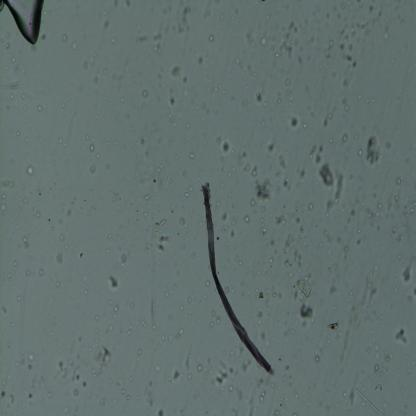Air bubble: (0, 0, 46, 47)
Background material: (326, 167, 346, 213), (342, 308, 358, 364), (173, 0, 192, 35), (92, 344, 110, 378), (364, 133, 382, 166), (152, 220, 170, 251), (339, 19, 356, 50), (244, 25, 258, 58), (132, 163, 155, 183), (82, 47, 101, 71), (214, 365, 235, 386), (254, 179, 273, 202), (282, 22, 300, 46), (143, 376, 153, 414), (319, 163, 334, 188), (366, 202, 382, 224), (296, 280, 314, 298), (277, 42, 294, 61), (25, 375, 36, 403), (390, 223, 404, 245), (393, 327, 410, 345), (309, 143, 324, 163), (400, 199, 416, 217), (56, 362, 68, 384), (320, 40, 333, 60), (104, 274, 120, 290), (153, 30, 163, 54), (164, 87, 176, 107), (332, 262, 344, 282), (240, 356, 254, 373), (168, 61, 182, 78), (109, 185, 122, 203), (148, 299, 158, 322), (236, 148, 250, 164), (156, 64, 166, 86), (283, 170, 292, 194), (288, 113, 300, 131), (4, 78, 23, 89), (298, 305, 314, 318), (357, 18, 374, 30), (71, 367, 83, 384), (135, 33, 152, 45), (246, 391, 254, 416), (372, 340, 382, 360), (368, 285, 382, 299), (26, 351, 35, 372), (259, 217, 268, 238), (112, 72, 123, 89), (274, 212, 288, 225), (294, 250, 304, 268), (347, 52, 357, 70), (323, 109, 332, 129), (277, 152, 287, 170), (386, 348, 396, 366), (402, 264, 412, 282), (296, 163, 306, 181), (204, 0, 213, 19), (382, 22, 391, 41), (235, 385, 244, 404), (322, 229, 334, 243), (92, 72, 104, 86), (195, 51, 204, 69), (348, 385, 356, 405), (118, 254, 131, 266), (2, 178, 16, 189), (184, 350, 191, 372), (407, 284, 416, 301), (139, 87, 151, 99), (122, 58, 131, 74), (258, 390, 267, 406), (366, 269, 374, 287), (162, 3, 173, 16), (325, 281, 336, 294), (54, 252, 64, 266), (222, 141, 232, 155), (284, 231, 292, 248), (140, 133, 148, 150), (342, 74, 352, 87), (220, 211, 230, 224), (325, 322, 338, 332), (236, 57, 245, 71), (241, 99, 252, 110), (346, 292, 356, 304), (143, 192, 153, 204), (174, 328, 184, 340), (202, 101, 210, 115), (340, 98, 348, 112), (8, 393, 16, 407), (250, 164, 258, 178), (256, 92, 264, 106), (230, 405, 240, 416), (152, 363, 162, 374), (255, 380, 265, 391), (172, 370, 182, 381), (354, 0, 363, 12), (164, 289, 176, 298), (267, 254, 276, 266), (25, 165, 34, 177), (112, 304, 119, 319), (152, 324, 160, 337), (192, 97, 200, 110), (180, 216, 188, 229), (155, 163, 164, 174), (237, 253, 244, 267), (0, 202, 8, 214), (267, 142, 275, 154), (154, 408, 166, 416), (229, 227, 237, 239), (272, 292, 284, 300), (187, 294, 194, 307), (346, 0, 353, 13), (70, 41, 80, 50), (98, 398, 108, 407), (107, 231, 115, 242), (344, 405, 352, 416), (298, 225, 306, 236), (283, 359, 291, 370), (23, 237, 31, 248), (103, 162, 111, 173), (82, 380, 90, 391), (384, 138, 391, 150), (260, 36, 267, 48), (269, 378, 276, 390), (174, 223, 181, 235), (72, 388, 79, 400), (285, 100, 295, 108), (10, 55, 18, 65), (241, 162, 249, 172), (284, 259, 292, 269), (272, 406, 280, 416), (294, 215, 302, 225), (40, 32, 48, 42), (255, 309, 265, 317), (209, 31, 215, 44), (0, 389, 7, 400), (61, 34, 68, 45), (354, 236, 361, 247), (164, 24, 170, 36), (286, 76, 292, 88), (341, 135, 349, 144), (197, 360, 203, 372), (343, 390, 349, 402), (189, 252, 197, 261), (58, 232, 66, 241), (20, 63, 26, 75), (90, 163, 96, 175), (396, 250, 402, 262), (276, 183, 282, 195), (243, 215, 251, 224), (5, 30, 12, 40), (216, 136, 223, 146), (312, 353, 319, 363), (228, 384, 235, 394), (93, 314, 100, 324), (258, 291, 265, 301), (103, 67, 109, 78), (104, 19, 110, 30), (324, 7, 330, 18), (217, 13, 225, 21), (225, 190, 233, 198), (228, 348, 236, 356), (280, 374, 288, 382), (178, 408, 186, 416), (316, 298, 324, 306), (336, 235, 344, 243), (249, 197, 256, 206), (286, 271, 295, 278), (57, 219, 66, 226), (21, 104, 28, 113), (116, 379, 125, 386), (157, 134, 162, 146), (332, 68, 337, 80), (182, 74, 188, 84), (127, 323, 132, 335), (204, 278, 210, 288), (83, 286, 89, 296), (187, 370, 193, 380), (344, 245, 350, 255), (136, 22, 143, 30), (260, 331, 267, 339), (120, 225, 128, 232), (348, 207, 355, 215), (285, 90, 292, 98), (81, 276, 88, 284), (300, 320, 308, 327), (372, 182, 380, 189), (357, 150, 364, 158), (376, 222, 381, 233), (356, 225, 362, 234), (332, 3, 338, 12), (319, 240, 325, 249), (298, 55, 304, 64), (144, 242, 150, 251), (290, 327, 296, 336), (78, 250, 83, 260), (37, 104, 42, 114), (1, 304, 6, 314), (167, 336, 174, 343), (336, 13, 343, 20), (190, 152, 196, 160), (22, 198, 30, 204), (143, 210, 149, 218), (12, 261, 18, 269), (373, 262, 379, 270), (338, 43, 344, 51), (32, 44, 38, 52), (394, 194, 400, 202), (397, 176, 403, 184), (206, 356, 212, 364), (34, 211, 42, 217), (22, 93, 28, 101), (326, 267, 334, 273), (167, 312, 173, 320), (260, 118, 266, 126), (106, 326, 112, 334), (302, 122, 308, 130), (126, 394, 132, 402), (88, 144, 94, 152), (215, 316, 221, 324), (346, 217, 352, 225), (69, 357, 73, 368), (234, 8, 240, 15), (183, 191, 189, 198), (51, 159, 57, 166), (128, 375, 134, 382), (227, 286, 233, 293), (372, 190, 378, 197), (46, 393, 53, 399), (291, 410, 298, 416), (145, 151, 151, 158), (16, 294, 22, 301), (132, 208, 139, 214), (36, 189, 42, 196), (125, 0, 131, 7), (348, 173, 354, 180), (14, 130, 21, 136), (307, 204, 314, 210), (77, 86, 84, 92), (185, 138, 189, 148), (213, 86, 218, 94), (114, 0, 119, 8), (210, 309, 215, 317), (301, 402, 306, 410), (263, 100, 268, 108), (408, 366, 412, 376), (215, 200, 220, 208), (85, 134, 90, 142), (394, 284, 399, 292), (64, 242, 70, 248), (49, 330, 55, 336), (65, 406, 69, 415), (39, 270, 45, 276), (78, 335, 82, 344), (300, 46, 306, 52), (341, 4, 347, 10), (260, 206, 266, 212), (215, 234, 220, 241), (210, 322, 215, 329), (270, 240, 275, 247), (75, 353, 80, 360), (276, 96, 281, 103), (184, 237, 191, 242), (1, 193, 6, 200), (59, 138, 63, 146), (256, 319, 260, 327), (4, 64, 8, 72), (6, 43, 10, 51), (272, 34, 276, 42), (71, 183, 75, 191), (231, 165, 235, 173), (56, 280, 60, 288), (112, 38, 117, 44), (217, 83, 222, 89), (185, 91, 190, 97), (369, 5, 374, 11), (327, 137, 332, 143), (110, 399, 115, 405), (152, 178, 157, 184), (94, 328, 99, 334), (271, 46, 276, 52), (294, 393, 300, 398), (82, 198, 88, 203), (70, 200, 75, 206), (161, 335, 166, 341), (96, 153, 101, 159), (121, 389, 126, 395), (275, 248, 280, 254), (50, 226, 56, 231), (131, 126, 136, 132), (7, 342, 11, 349), (64, 157, 68, 164), (200, 170, 204, 177), (157, 261, 164, 265), (186, 121, 190, 128), (11, 94, 15, 101), (138, 348, 142, 355), (173, 122, 178, 127), (228, 172, 233, 177), (141, 321, 146, 326), (215, 0, 220, 5), (104, 9, 107, 17), (62, 102, 66, 108), (202, 116, 206, 122), (8, 274, 14, 278), (326, 338, 330, 344), (254, 286, 258, 292), (239, 291, 245, 295), (114, 140, 118, 146), (182, 170, 186, 176), (209, 368, 212, 376), (180, 304, 184, 310), (372, 97, 376, 103), (92, 137, 96, 143), (64, 141, 67, 148), (190, 186, 193, 193), (242, 348, 245, 355), (89, 346, 92, 353), (176, 154, 180, 159), (80, 205, 84, 210), (333, 306, 337, 311), (47, 218, 51, 223), (25, 138, 29, 143), (168, 113, 172, 118), (245, 85, 249, 90), (231, 15, 236, 19), (366, 98, 370, 103), (107, 247, 111, 252), (358, 94, 362, 99), (132, 77, 135, 83), (4, 380, 7, 386), (22, 184, 25, 190), (103, 96, 106, 102), (190, 309, 193, 315), (122, 98, 125, 104), (379, 315, 382, 321), (116, 114, 120, 118), (54, 170, 58, 174), (220, 387, 224, 391), (107, 300, 111, 304), (68, 209, 70, 217), (344, 256, 348, 260), (278, 386, 282, 390), (222, 89, 226, 93), (229, 60, 233, 64), (254, 72, 257, 77), (54, 181, 57, 186), (165, 251, 168, 256), (139, 73, 142, 78), (120, 245, 122, 252), (197, 177, 200, 181), (208, 332, 211, 336), (379, 12, 382, 16), (168, 378, 170, 382), (108, 142, 110, 146), (280, 404, 283, 406)
Cotton: (200, 184, 272, 375)
Glass filter fibre: (17, 226, 39, 370), (354, 388, 381, 413), (357, 364, 384, 387), (165, 172, 177, 192)
